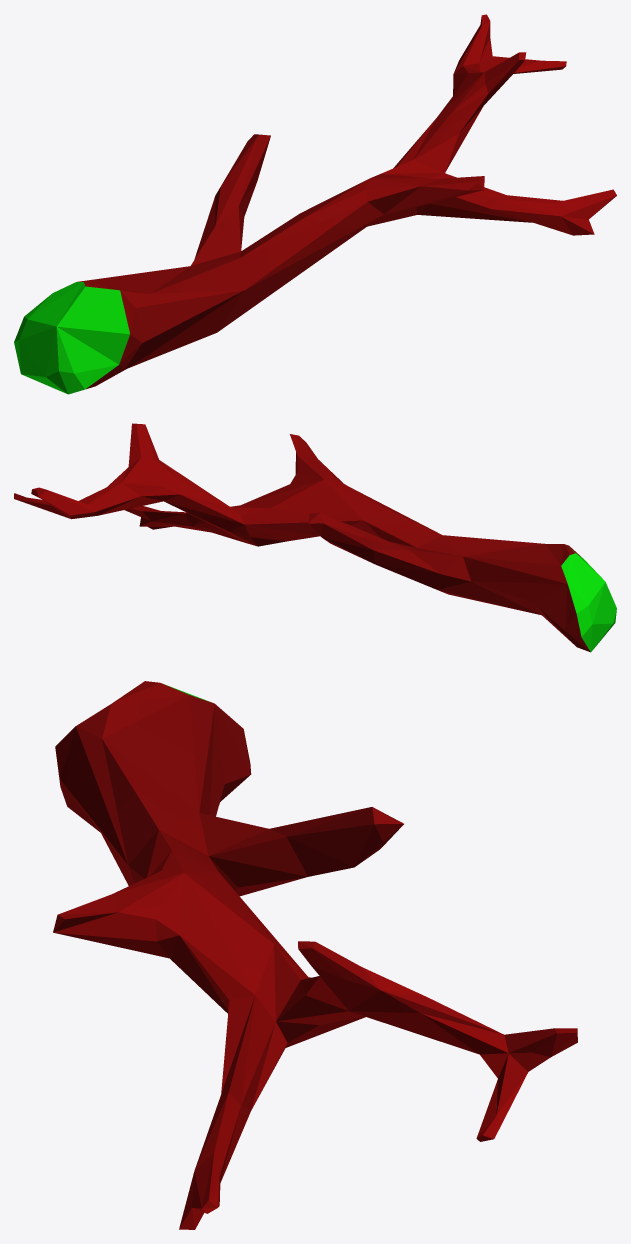
The model's file is SM_Env_DriftWood_01.glb.
3 views of the same model, one above another, from view 1: azimuth 30°, elevation 25°; view 2: azimuth 150°, elevation 25°; view 3: azimuth 270°, elevation 25° (orthographic). The views are drawn at different scales.
Visible parts, largest first — view 1: SM_Env_DriftWood_01; view 2: SM_Env_DriftWood_01; view 3: SM_Env_DriftWood_01.
Boxes of the visible parts, x1,y1,x2,y2 form: SM_Env_DriftWood_01: [14, 14, 616, 394]; SM_Env_DriftWood_01: [14, 423, 616, 652]; SM_Env_DriftWood_01: [53, 681, 577, 1229].
Size of the model in its own units: 4.63 by 1.21 by 2.05.
